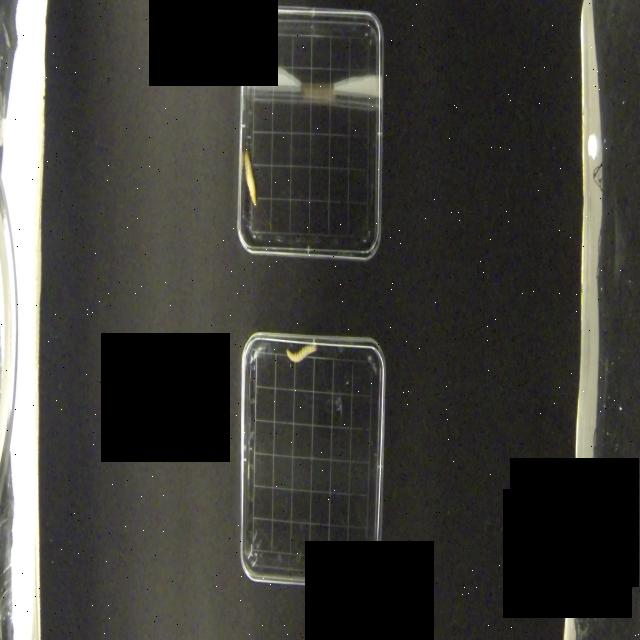larva: (286, 344, 320, 364), (245, 154, 258, 204)
